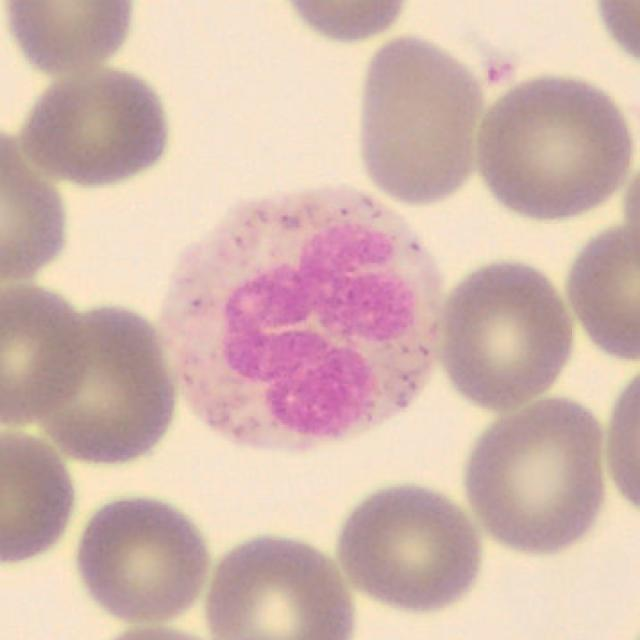Neutrofilo segmentado: (157, 185, 445, 455)
